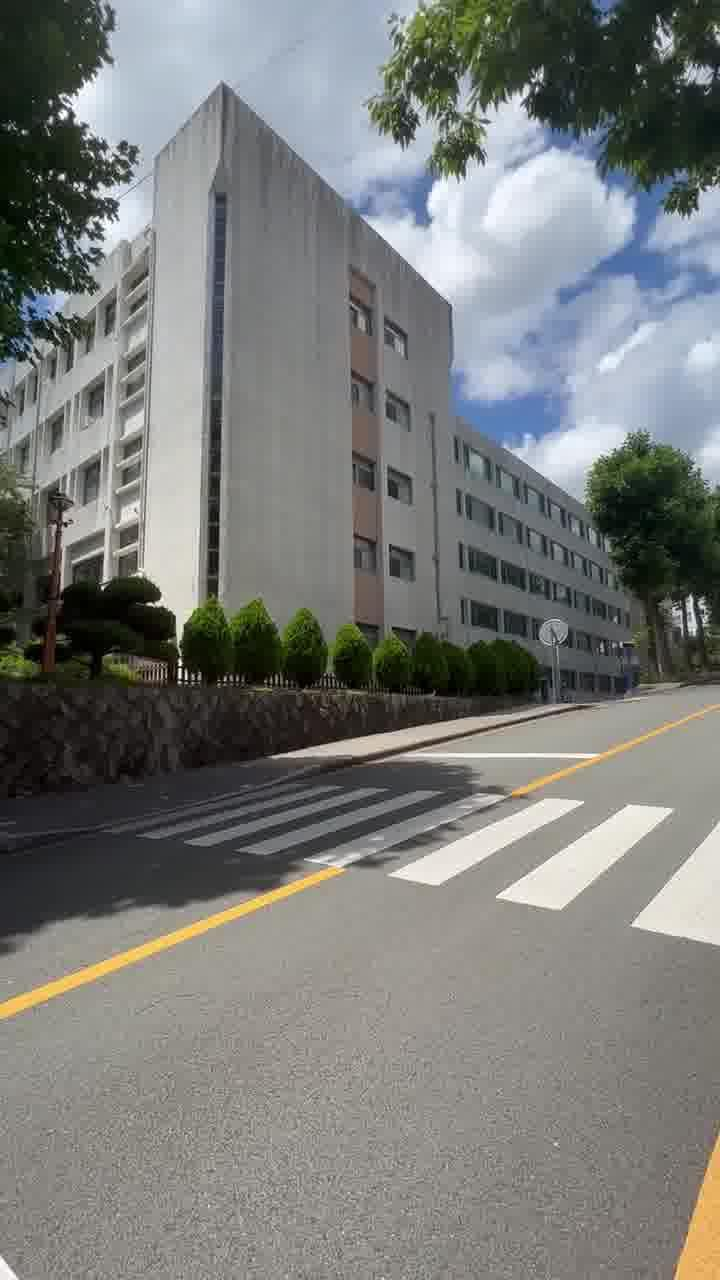building: (110, 168, 560, 634)
